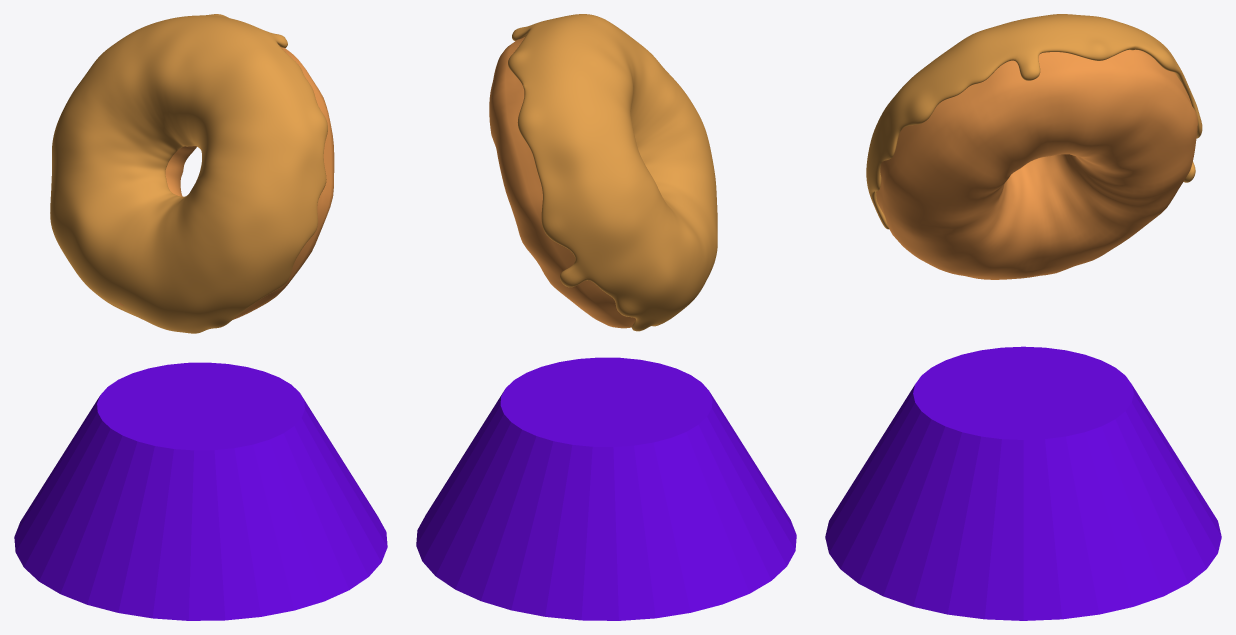
3 renders of one model, left to right at view 1: azimuth 30°, elevation 25°; view 2: azimuth 150°, elevation 25°; view 3: azimuth 270°, elevation 25°, orthographic. The views are drawn at different scales.
Parts seen in each view (by area): view 1: Cylinder, Icing; view 2: Cylinder, Icing; view 3: Cylinder, Icing.
Boxes of the visible parts, x1,y1,x2,y2 form: Cylinder: (14,362,387,620); Icing: (50,14,334,333); Cylinder: (416,357,796,620); Icing: (489,14,717,331); Cylinder: (825,346,1221,620); Icing: (866,14,1202,279).
Bounding box in the file's own units: 200 × 296 × 200.
